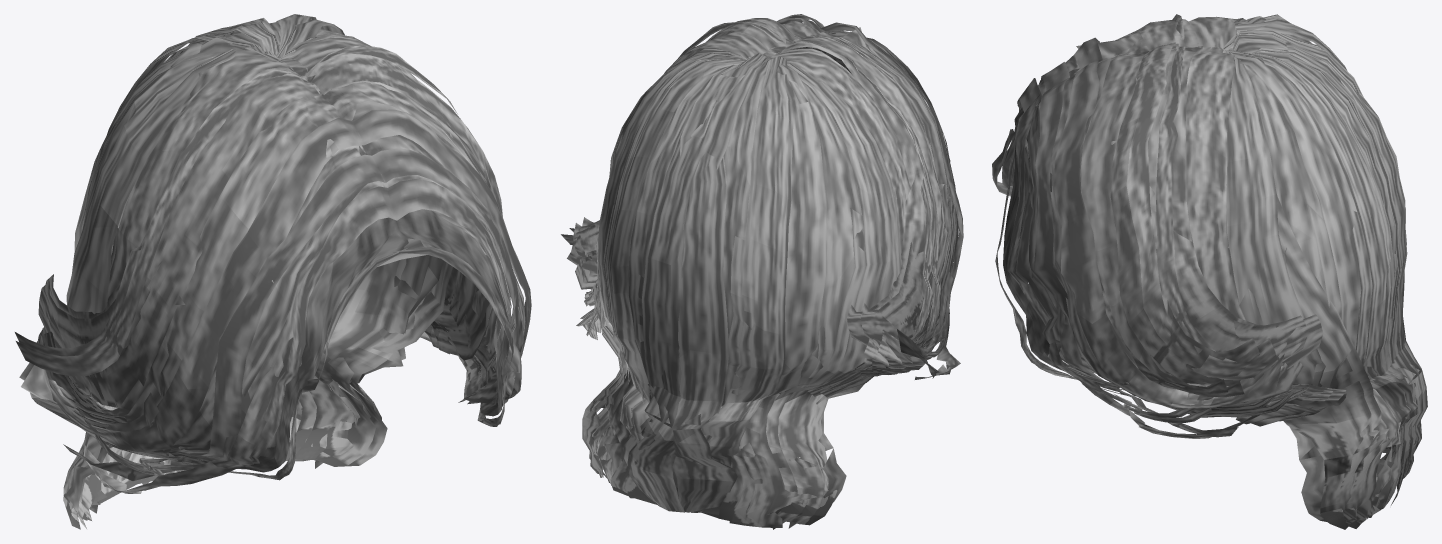
File: daz_hair_curtain_wave.glb
3 views of the same model, side by side, from view 1: azimuth 30°, elevation 25°; view 2: azimuth 150°, elevation 25°; view 3: azimuth 270°, elevation 25° (orthographic). The views are drawn at different scales.
Parts seen in each view (by area): view 1: daz_hair_curtain_wave; view 2: daz_hair_curtain_wave; view 3: daz_hair_curtain_wave.
Part boxes in pixels (<box>): daz_hair_curtain_wave: <box>15,14,531,529</box>; daz_hair_curtain_wave: <box>561,14,963,529</box>; daz_hair_curtain_wave: <box>992,14,1427,529</box>.
Size of the model in its own units: 0.2293 by 0.2442 by 0.2173.
1 material, 1 textured.
